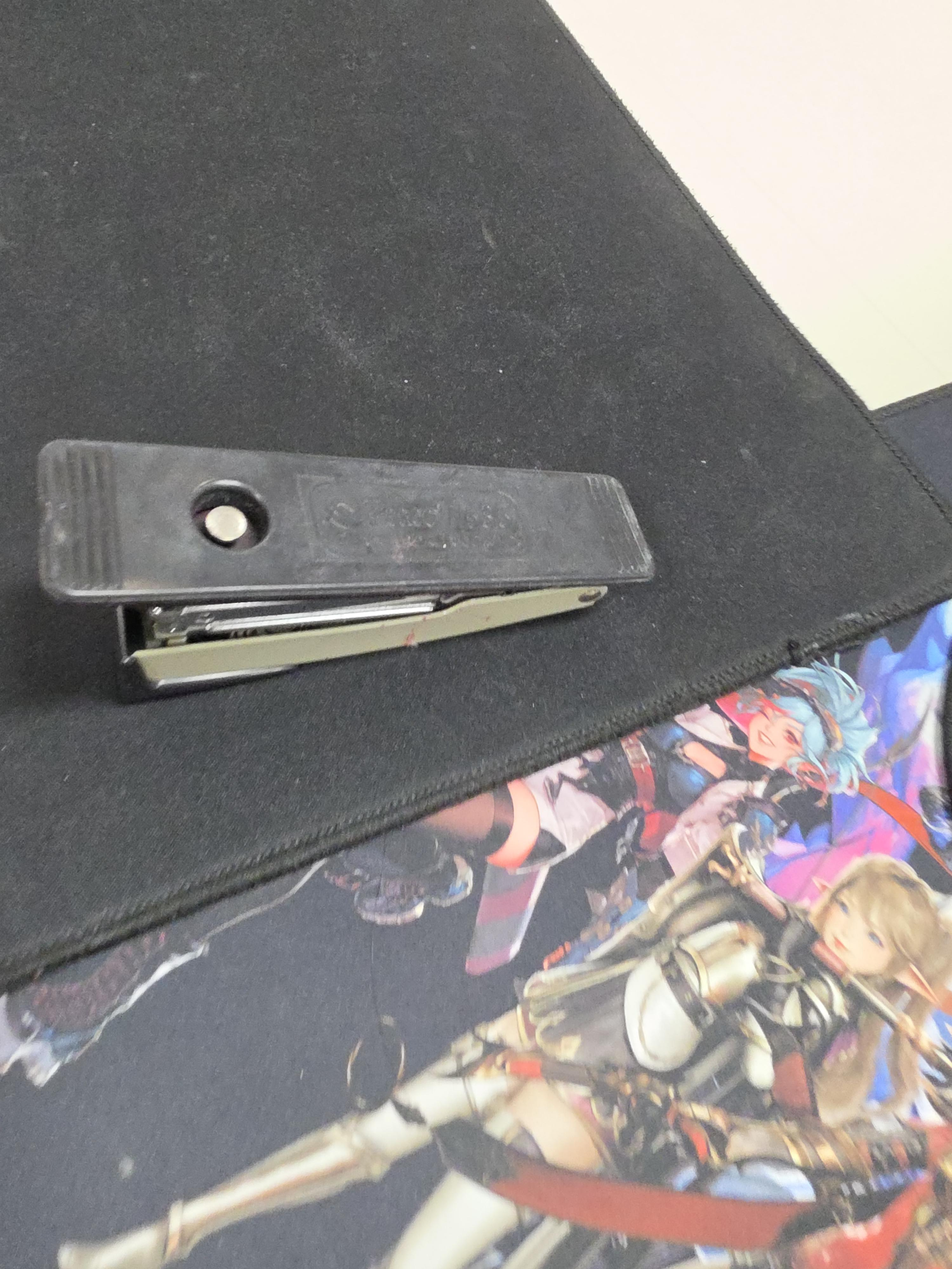stapler: (35, 438, 656, 696)
